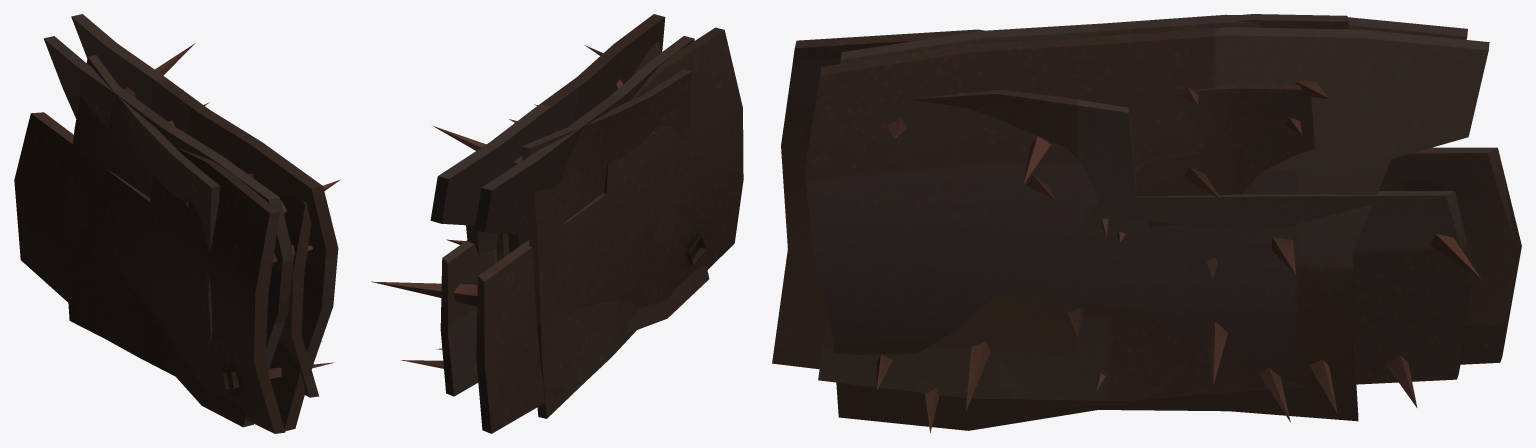
The model's file is Protection_v1.FBX.
3 views of the same model, side by side, from view 1: azimuth 30°, elevation 25°; view 2: azimuth 150°, elevation 25°; view 3: azimuth 270°, elevation 25° (orthographic). The views are drawn at different scales.
Parts seen in each view (by area): view 1: Protection_v1_2, Protection_v1_1, Protection_v1_6, Protection_v1_3, Protection_v1_5; view 2: Protection_v1_2, Protection_v1_1, Protection_v1_6, Protection_v1_3, Protection_v1_5; view 3: Protection_v1_6, Protection_v1_5, Protection_v1_2, Protection_v1_4, Protection_v1_3, Protection_v1_1.
Part boxes in pixels (left/top/right/bottom): Protection_v1_2: left=14, top=112, right=334, bottom=433; Protection_v1_1: left=65, top=43, right=322, bottom=375; Protection_v1_6: left=71, top=14, right=338, bottom=431; Protection_v1_3: left=43, top=36, right=340, bottom=427; Protection_v1_5: left=278, top=195, right=318, bottom=397; Protection_v1_2: left=371, top=27, right=743, bottom=433; Protection_v1_1: left=432, top=69, right=691, bottom=418; Protection_v1_6: left=430, top=14, right=665, bottom=256; Protection_v1_3: left=446, top=36, right=709, bottom=333; Protection_v1_5: left=440, top=42, right=660, bottom=396; Protection_v1_6: left=804, top=27, right=1489, bottom=430; Protection_v1_5: left=818, top=90, right=1475, bottom=400; Protection_v1_2: left=772, top=29, right=1521, bottom=407; Protection_v1_4: left=999, top=84, right=1315, bottom=390; Protection_v1_3: left=839, top=14, right=1467, bottom=432; Protection_v1_1: left=957, top=14, right=1348, bottom=413.
Size of the model in its own units: 0.5012 by 0.9641 by 1.66.
